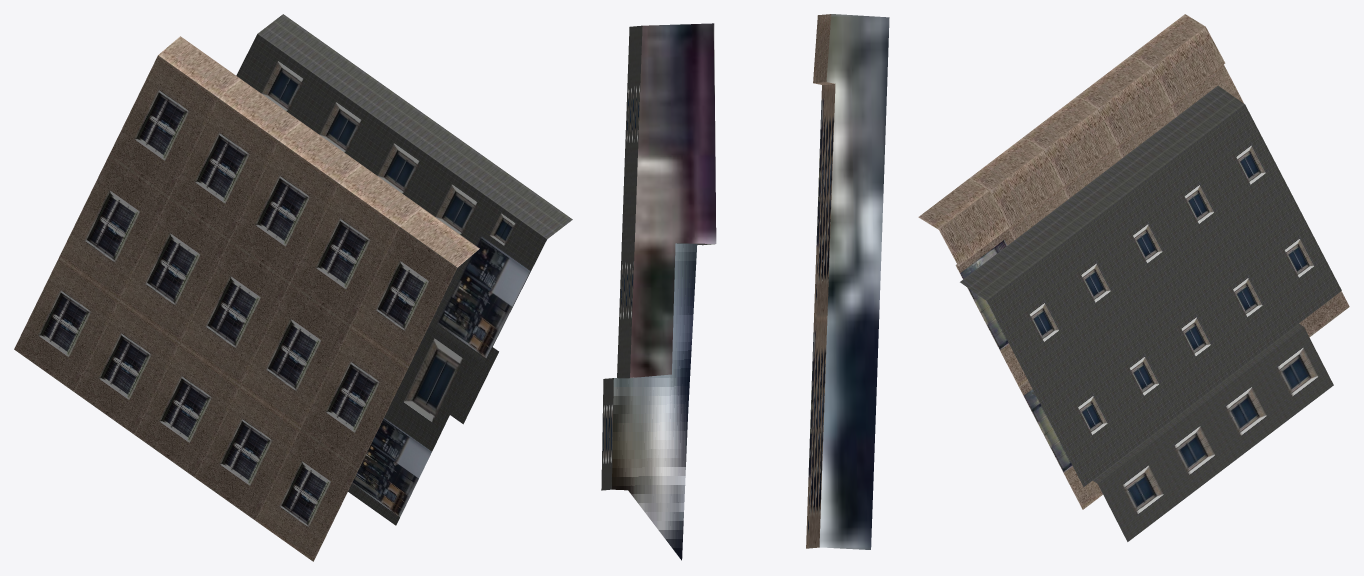
3 renders of one model, left to right at view 1: azimuth 30°, elevation 25°; view 2: azimuth 150°, elevation 25°; view 3: azimuth 270°, elevation 25°, orthographic. The views are drawn at different scales.
Bounding box in the file's own units: 19.58 × 24.96 × 21.28.
Materials: 14 (14 with a texture image).
